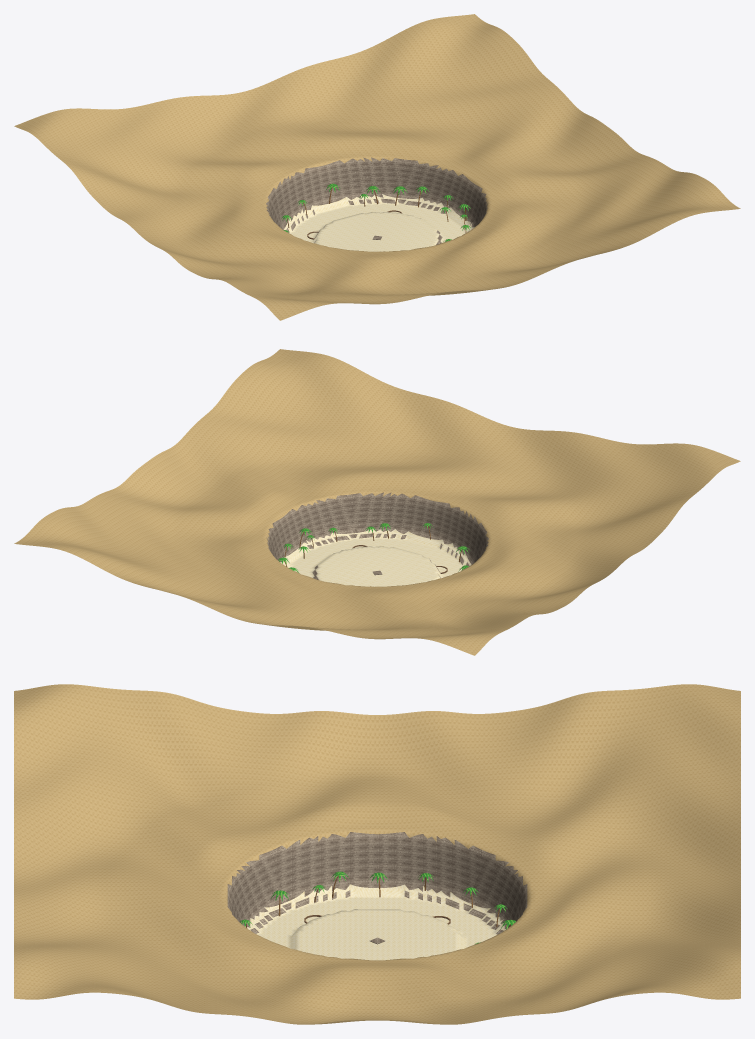
3 views of the same model, one above another, from view 1: azimuth 30°, elevation 25°; view 2: azimuth 150°, elevation 25°; view 3: azimuth 270°, elevation 25° (orthographic). The views are drawn at different scales.
Parts seen in each view (by area): view 1: Nest Island; view 2: Nest Island; view 3: Nest Island.
Boxes of the visible parts, left/top/right/bottom form: Nest Island: left=14, top=14, right=740, bottom=320; Nest Island: left=14, top=349, right=740, bottom=655; Nest Island: left=14, top=684, right=740, bottom=1024.
Size of the model in its own units: 400 by 67.3 by 400.
6 materials, 6 textured.
